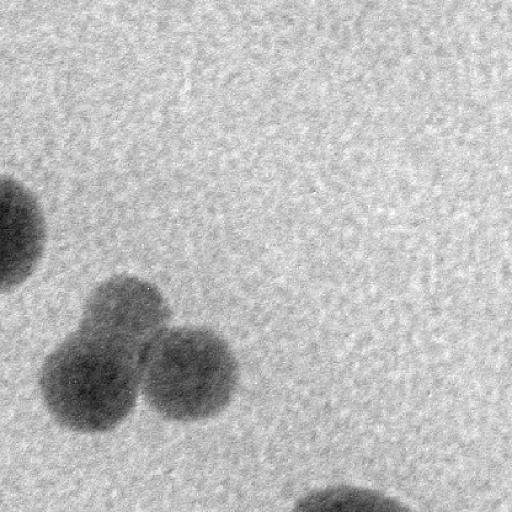Nanoparticles: (40, 338, 140, 432), (145, 328, 237, 420), (80, 272, 172, 348), (2, 179, 47, 285), (292, 484, 420, 512)
